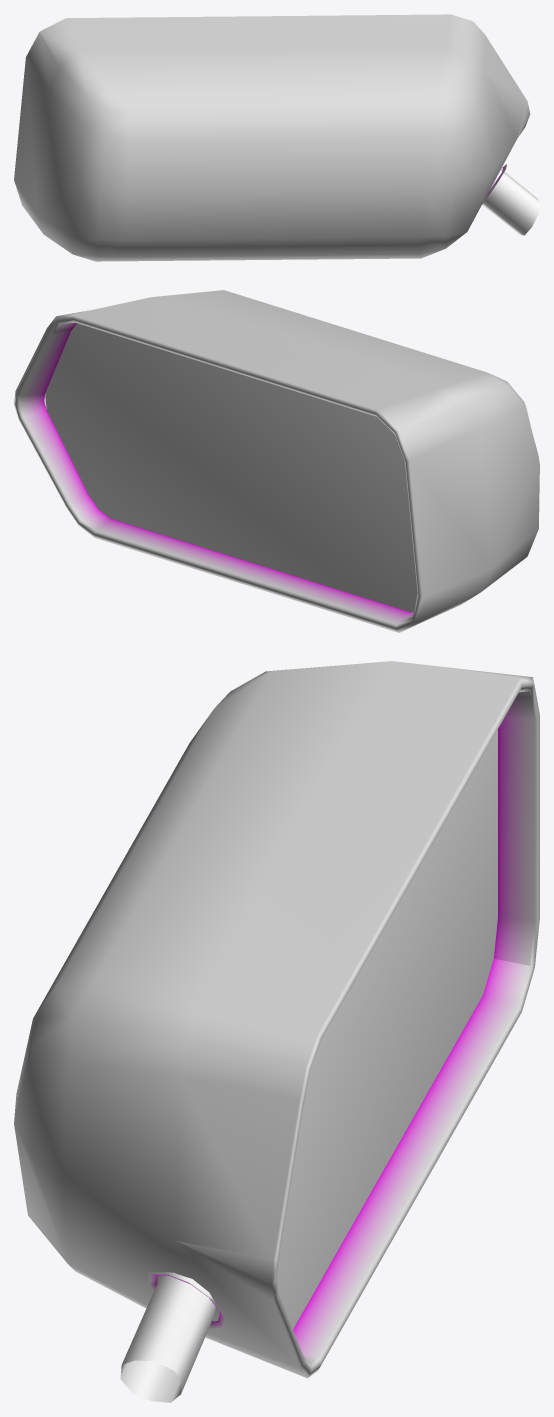
The model's file is Car_Nissan_SkylineGTRVspecR34_1999_MirrorR_SetE.fbx.
3 views of the same model, one above another, from view 1: azimuth 30°, elevation 25°; view 2: azimuth 150°, elevation 25°; view 3: azimuth 270°, elevation 25° (orthographic). The views are drawn at different scales.
Parts seen in each view (by area): view 1: MirrorR 6; view 2: MirrorR 6; view 3: MirrorR 6.
Part boxes in pixels (x1,y1,x2,y2): MirrorR 6: (14,14,539,261); MirrorR 6: (14,290,539,632); MirrorR 6: (14,661,539,1402).
Size of the model in its own units: 0.1791 by 0.0857 by 0.0973.
